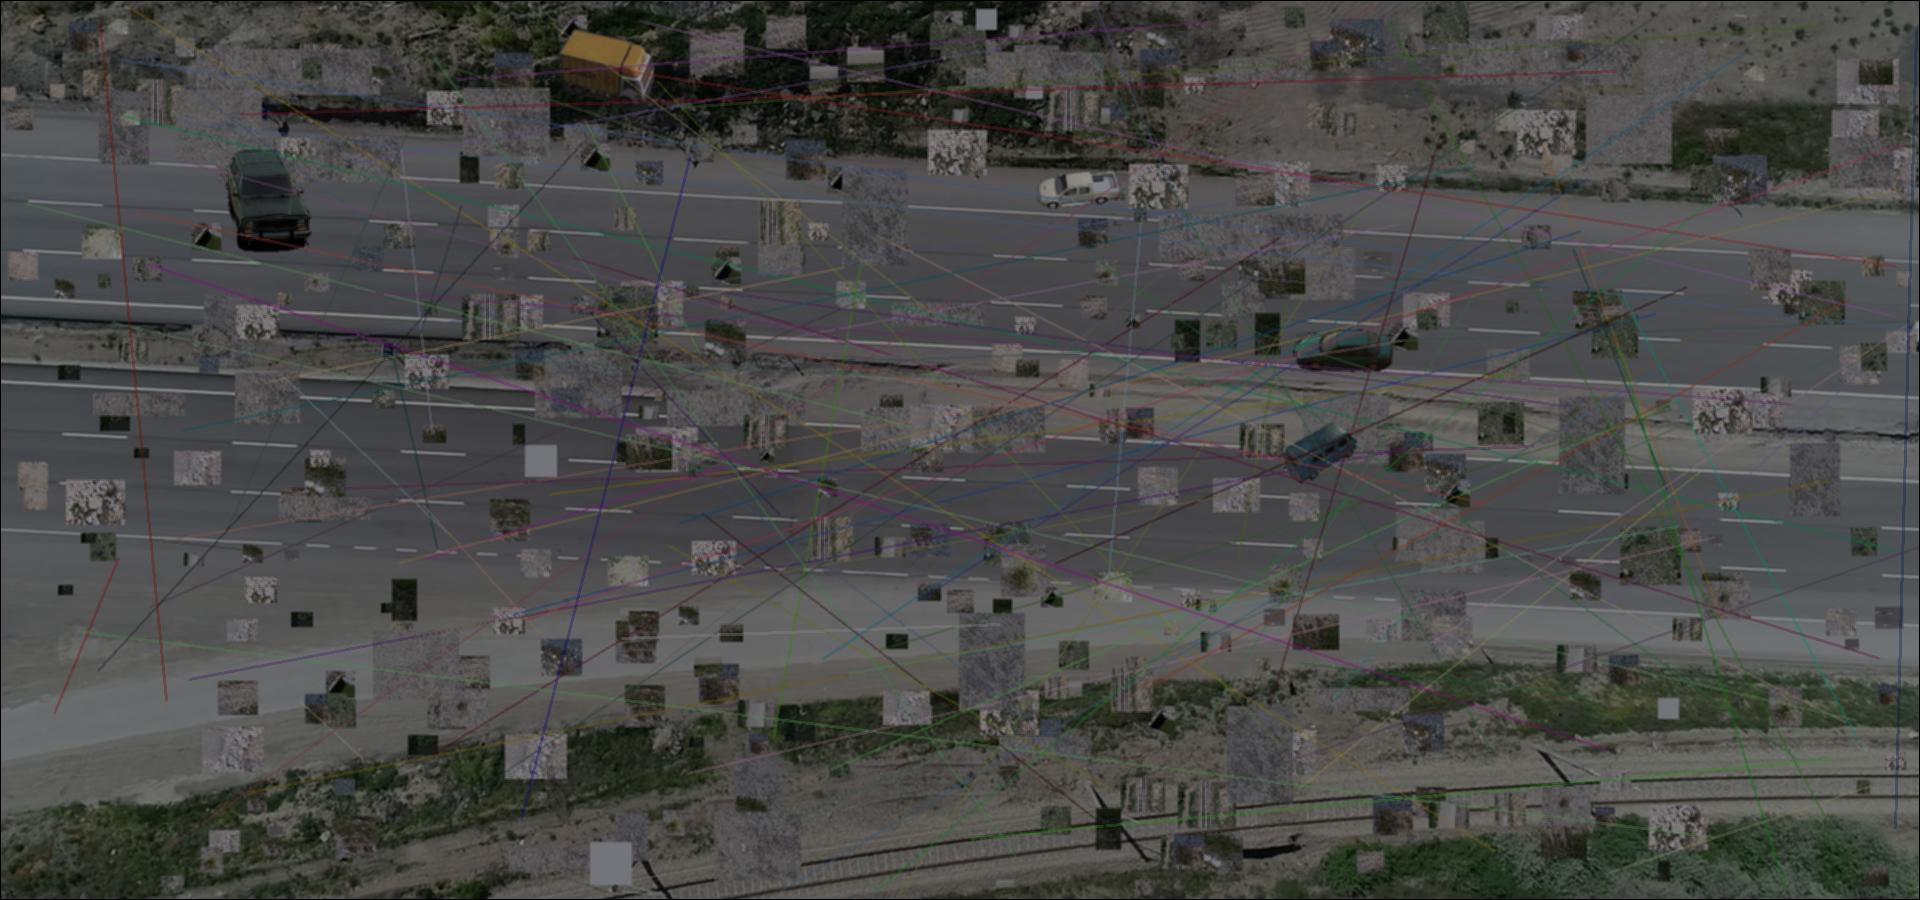arac: (220, 147, 312, 253), (557, 29, 658, 113), (1282, 419, 1358, 485), (1292, 329, 1396, 372), (1037, 167, 1123, 208)
